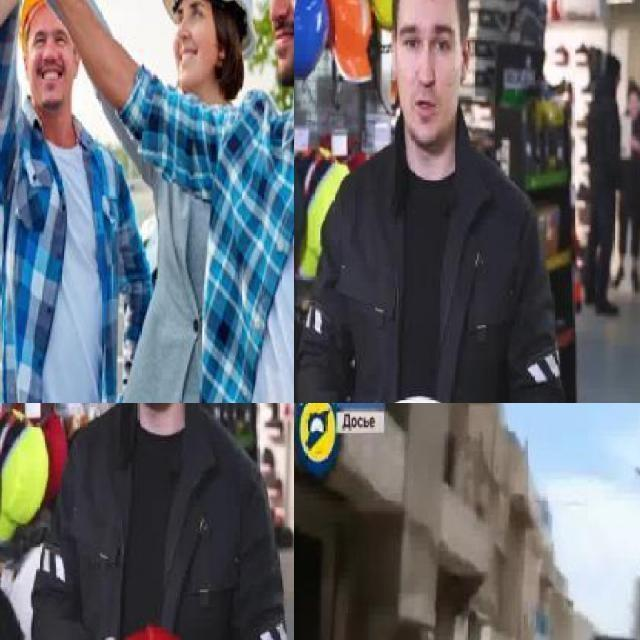apron: (294, 0, 328, 95)
